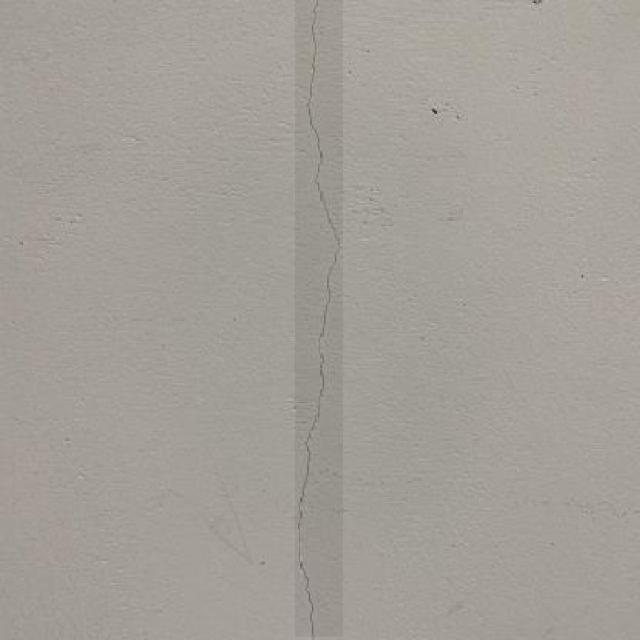vertical crack: (295, 0, 342, 637)
